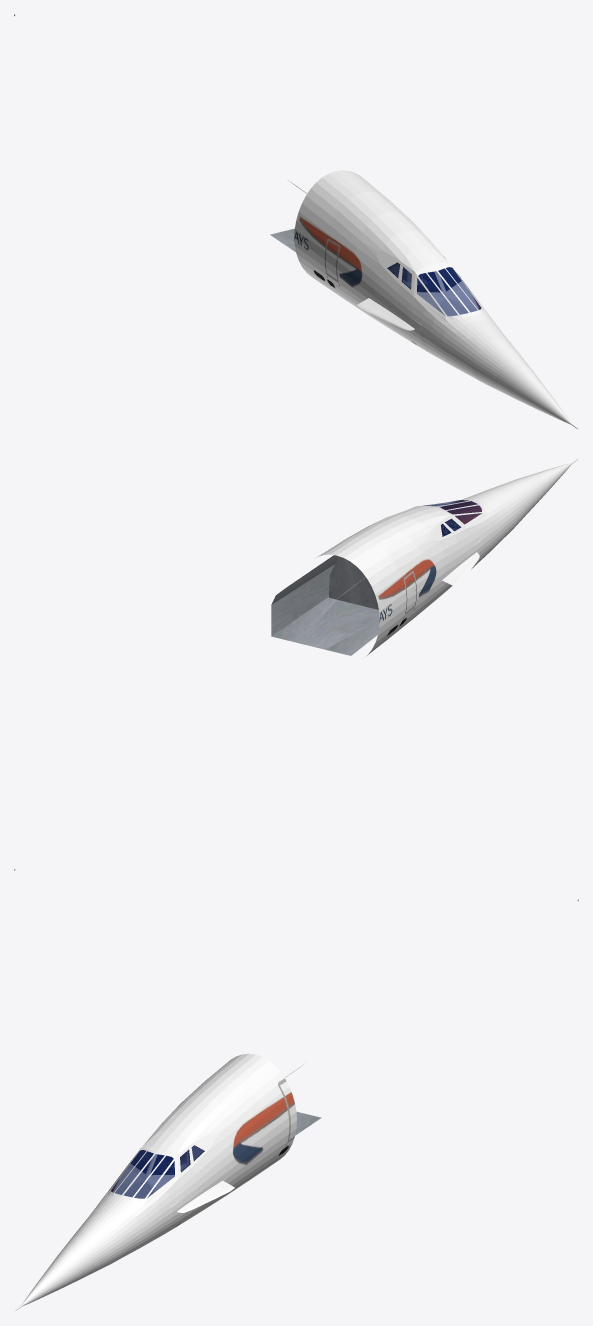
Rendered from concorde-cockpit.glb.
3 views of the same model, one above another, from view 1: azimuth 30°, elevation 25°; view 2: azimuth 150°, elevation 25°; view 3: azimuth 330°, elevation 25° (orthographic).
Parts seen in each view (by area): view 1: concorde.ac:DefaultWhite, concorde.ac:DefaultWhite.001 (×2); view 2: concorde.ac:DefaultWhite (×2), concorde.ac:DefaultWhite.001 (×2), rack.ac:DefaultWhite, door.ac:DefaultWhite; view 3: concorde.ac:DefaultWhite, concorde.ac:DefaultWhite.001 (×2).
Part boxes in pixels (<box>): concorde.ac:DefaultWhite: <box>294,170,479,356</box>; concorde.ac:DefaultWhite.001 (×2): <box>387,262,578,429</box>; concorde.ac:DefaultWhite (×2): <box>271,506,483,657</box>; concorde.ac:DefaultWhite.001 (×2): <box>422,458,578,561</box>; rack.ac:DefaultWhite: <box>329,556,351,603</box>; door.ac:DefaultWhite: <box>351,563,378,609</box>; concorde.ac:DefaultWhite: <box>113,1053,296,1239</box>; concorde.ac:DefaultWhite.001 (×2): <box>14,1145,204,1311</box>.
Size of the model in its own units: 3.18 by 3.38 by 31.74.
267 materials, 128 textured.
